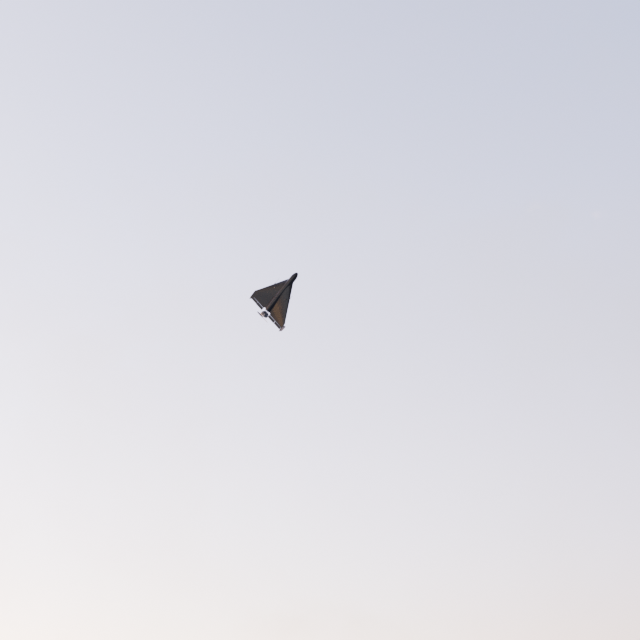shahed: (249, 272, 298, 331)
